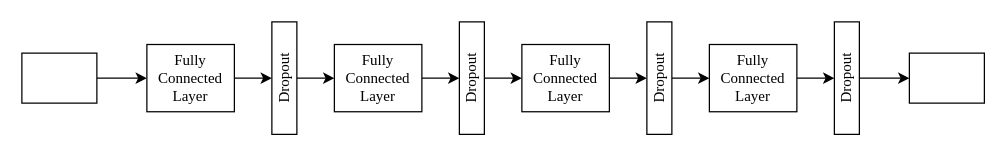
This 1006x156 diagram has some shape labels left out. Each missing label, with the centre of its shape:
"Input Layer" belongs at point 59,77.
"Ouput Layer" belongs at point 946,77.
